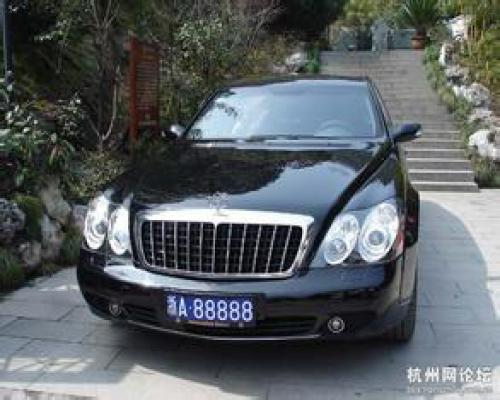Carplate: (161, 286, 261, 334)
